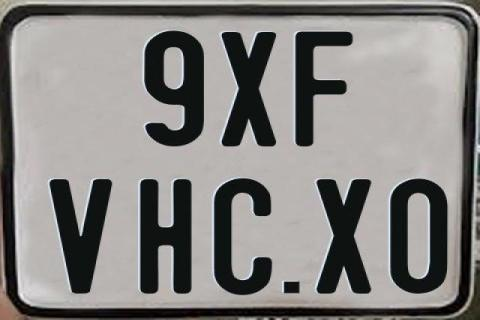0: (144, 28, 204, 149), (389, 178, 451, 294)
C: (212, 179, 273, 295)
F: (293, 31, 353, 148)
H: (137, 179, 195, 297)
V: (50, 178, 115, 296)
X: (220, 31, 279, 145), (317, 179, 372, 297)
